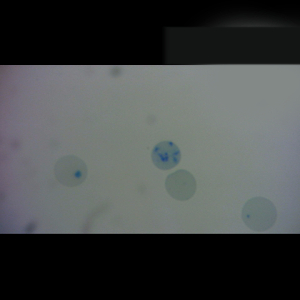aggregate reticulocyte: (150, 139, 182, 171)
erythrocyte: (53, 154, 89, 188), (164, 169, 198, 202)
punctate reticulocyte: (239, 195, 278, 233)
